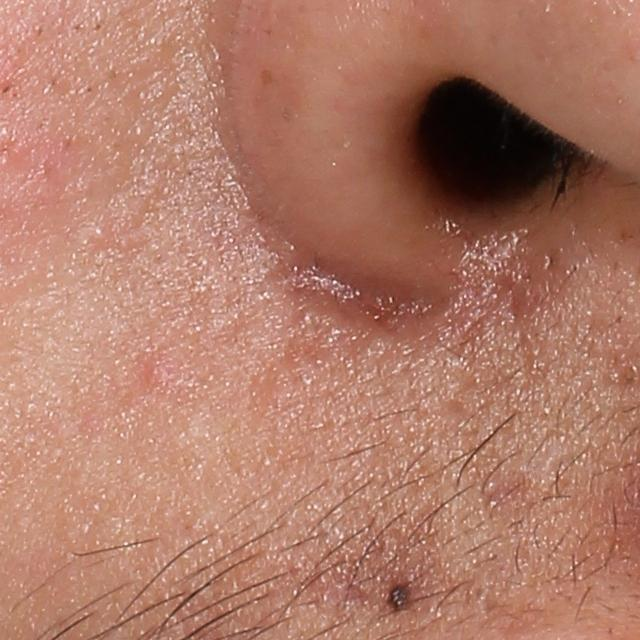comedo: (87, 221, 107, 244)
nevus: (386, 583, 413, 615)
